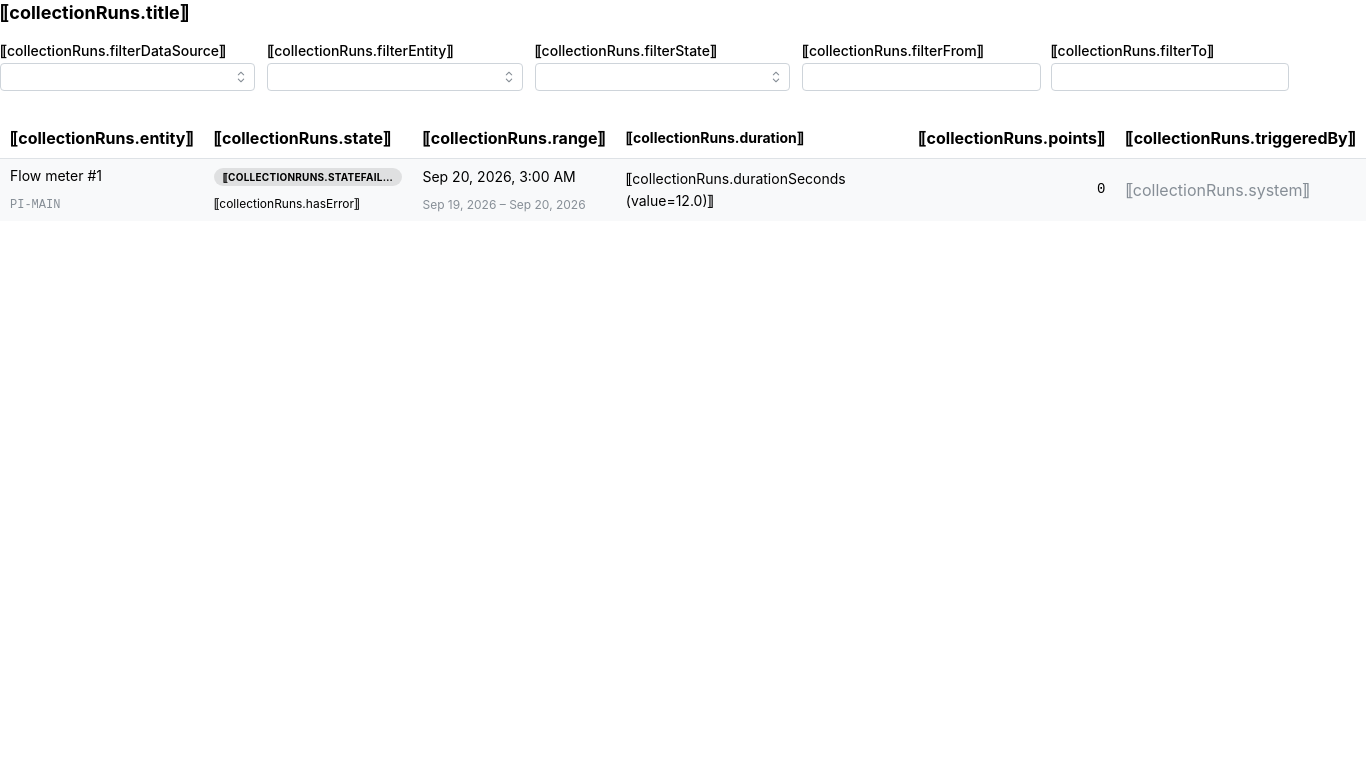
Scenario: CollectionRunDetailDrawer › U12: причина-конверт показується текстом мови інтерфейсу, а не JSON чи ключем
The image size is (1366, 768).
expect the text "Flow meter #1" is shown: met, box [10,167,102,184]
Click the row that starts with "Flow meter #1": (683, 190) [0,158,1365,221]
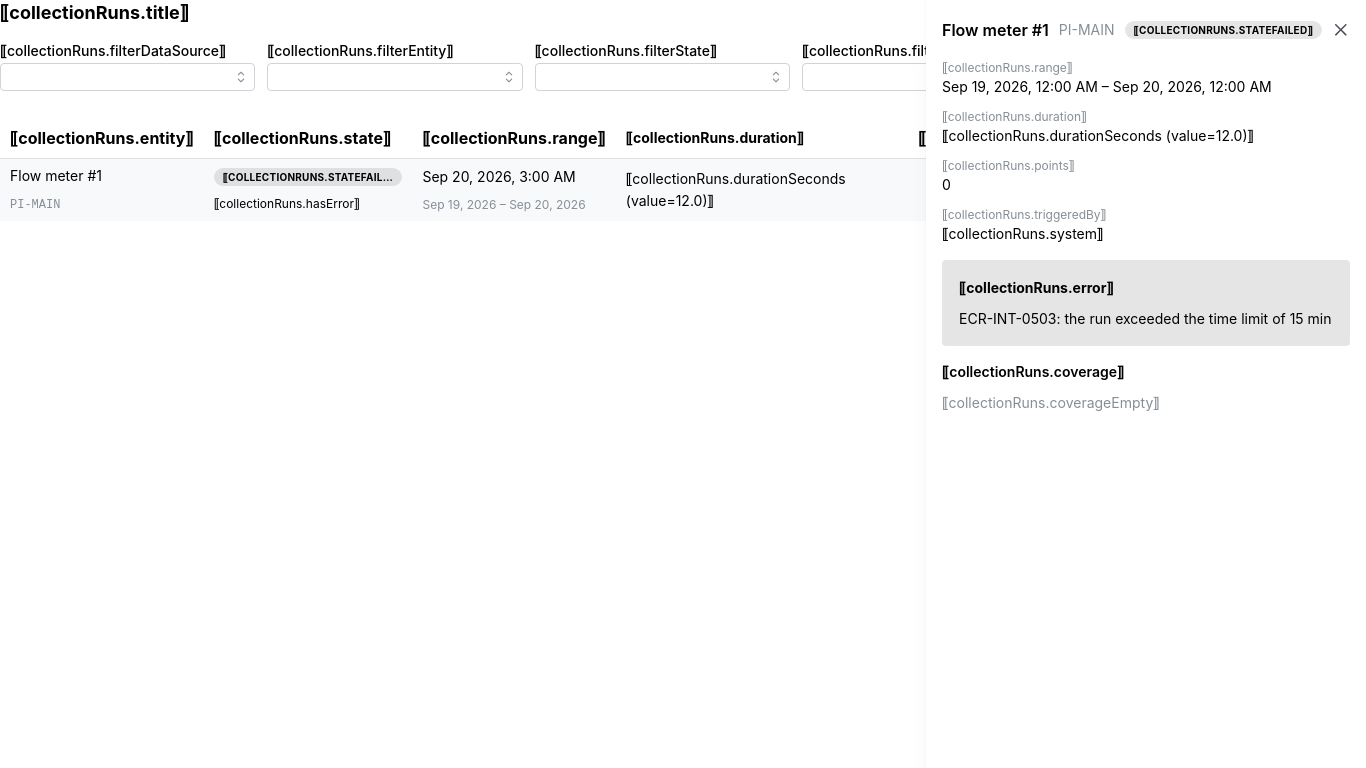
expect the dialog is shown: met, box [926,0,1365,767]
expect the text "ECR-INT-0503: the run exceeded the time limit of 15 min" is shown: met, box [959,309,1333,329]
